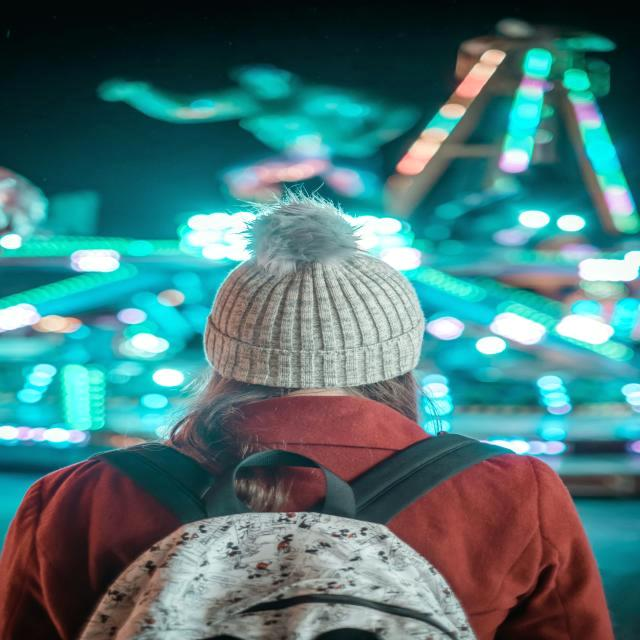no_hard_hat: (204, 193, 424, 389)
person: (3, 197, 614, 640)
